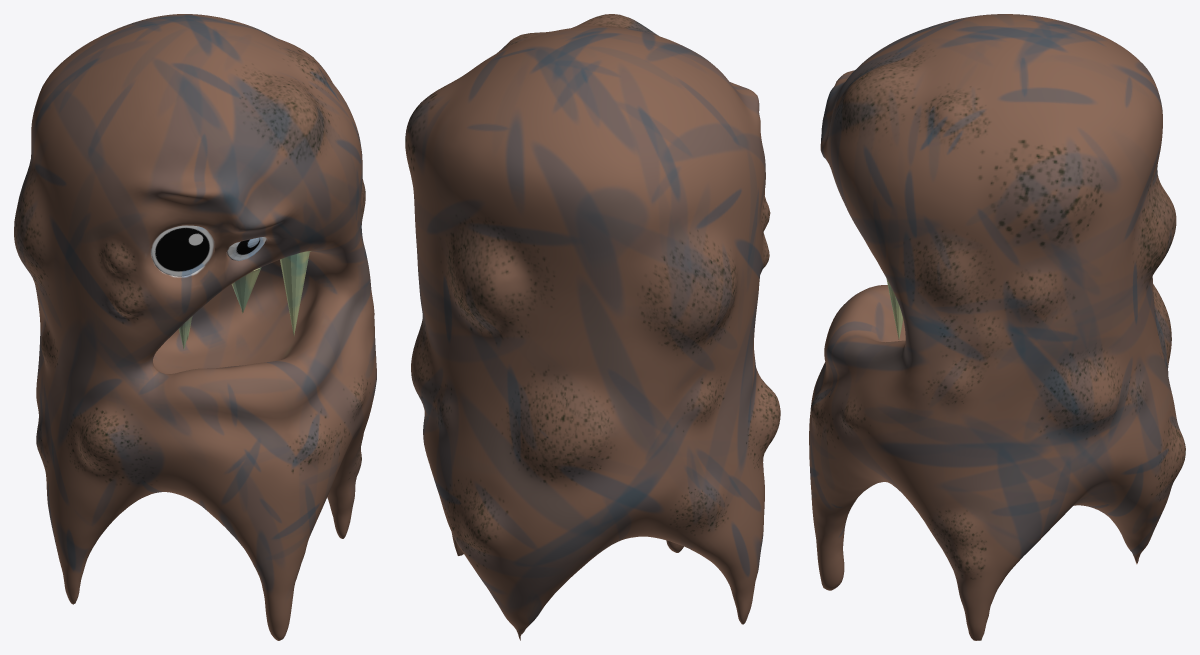
File: monster2.fbx
The picture shows the model from 3 angles, left to right: view 1: azimuth 30°, elevation 25°; view 2: azimuth 150°, elevation 25°; view 3: azimuth 270°, elevation 25°; orthographic projection. The views are drawn at different scales.
Parts seen in each view (by area): view 1: cuerpo, ojos, dientes1, dientes2; view 2: cuerpo; view 3: cuerpo.
Part boxes in pixels (bbox=[...]): cuerpo: bbox=[14, 14, 376, 640]; ojos: bbox=[151, 225, 266, 276]; dientes1: bbox=[241, 251, 309, 336]; dientes2: bbox=[231, 267, 261, 312]; cuerpo: bbox=[405, 14, 780, 640]; cuerpo: bbox=[809, 14, 1185, 640].
Bounding box in the file's own units: 1.29 × 2.23 × 1.35.
1 material, 1 textured.
